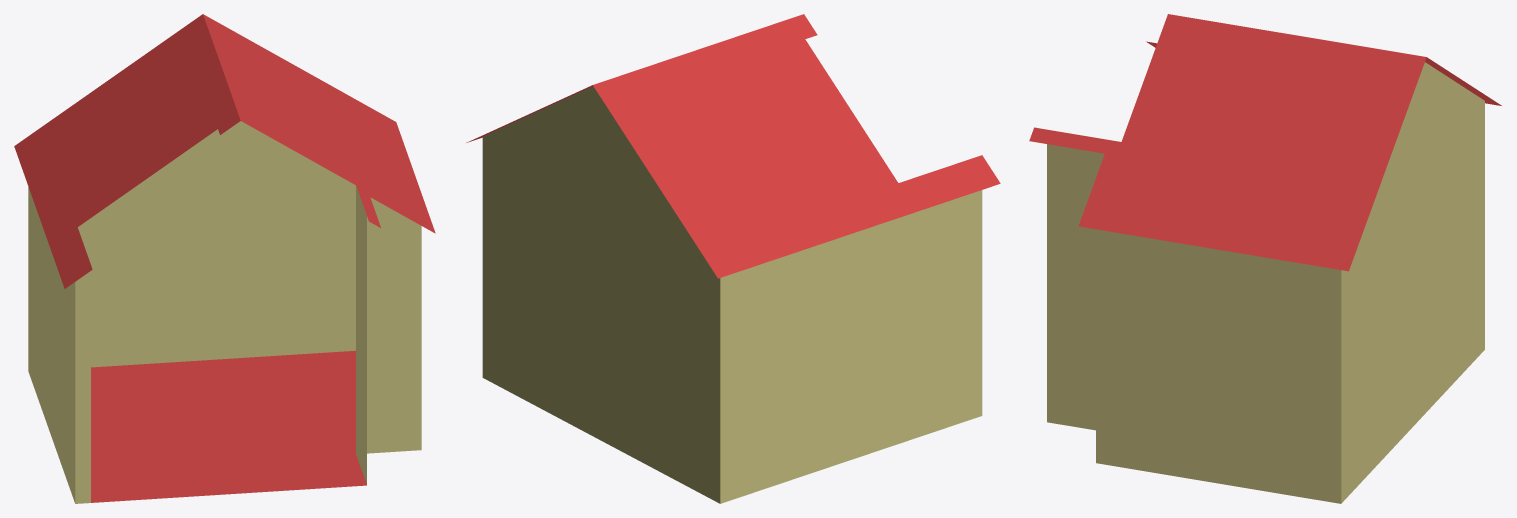
3 renders of one model, left to right at view 1: azimuth 30°, elevation 25°; view 2: azimuth 150°, elevation 25°; view 3: azimuth 270°, elevation 25°, orthographic. The views are drawn at different scales.
Size of the model in its own units: 19.39 by 17.43 by 15.05.
